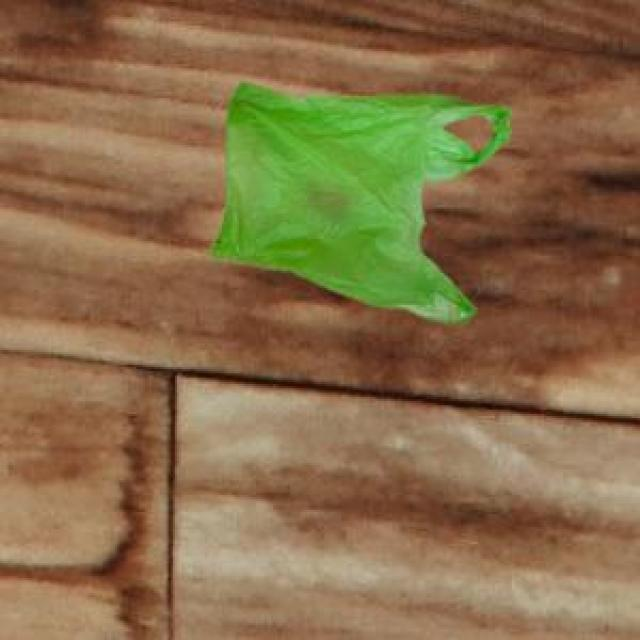waste: (212, 84, 510, 323)
